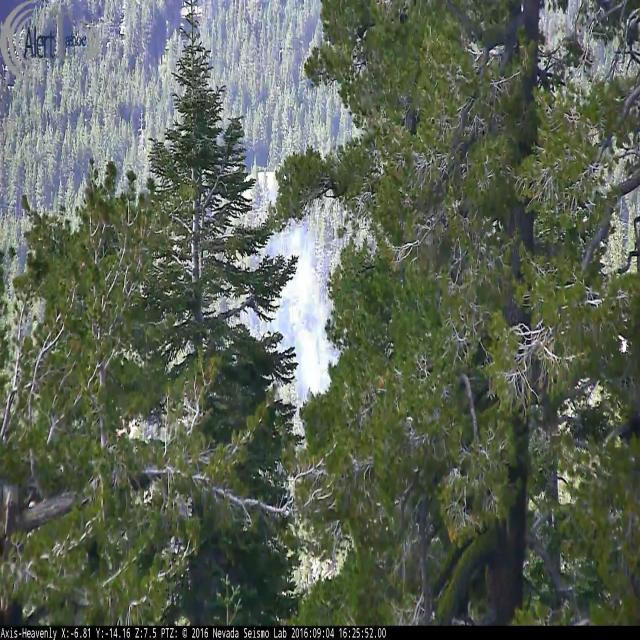smoke: (257, 220, 344, 415)
